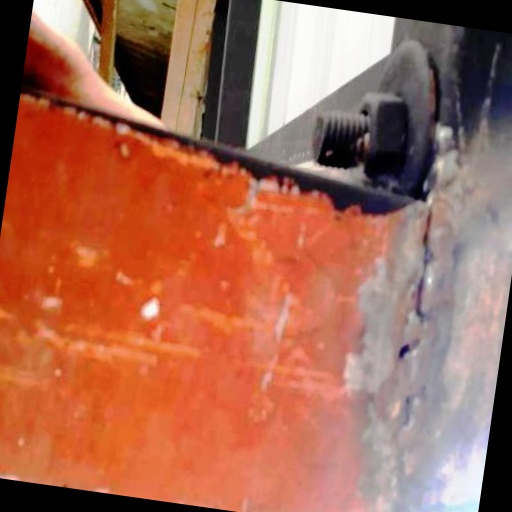crack: (370, 197, 477, 512)
